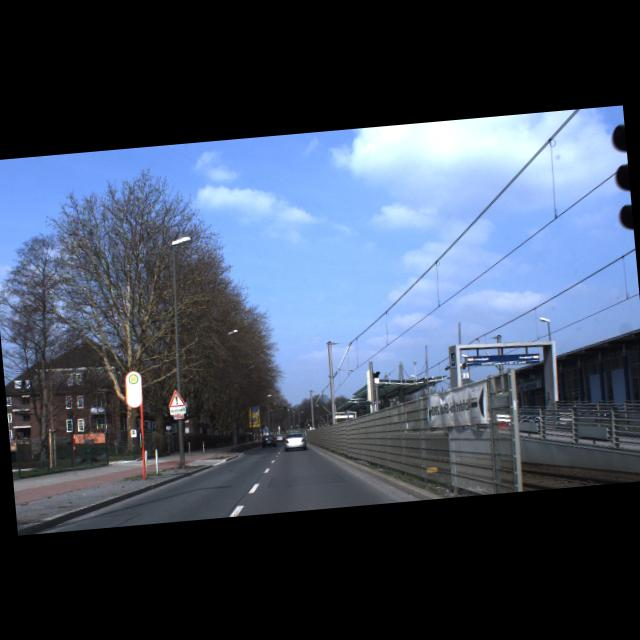danger: (167, 389, 186, 408)
